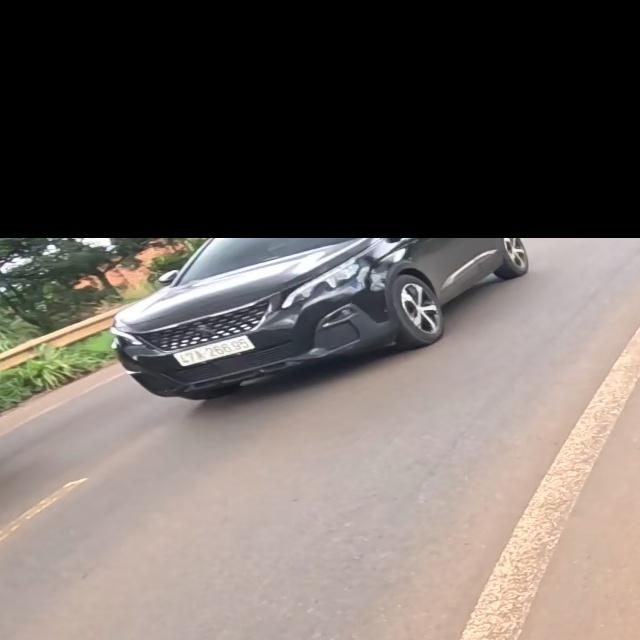license-plate: (171, 335, 255, 366)
